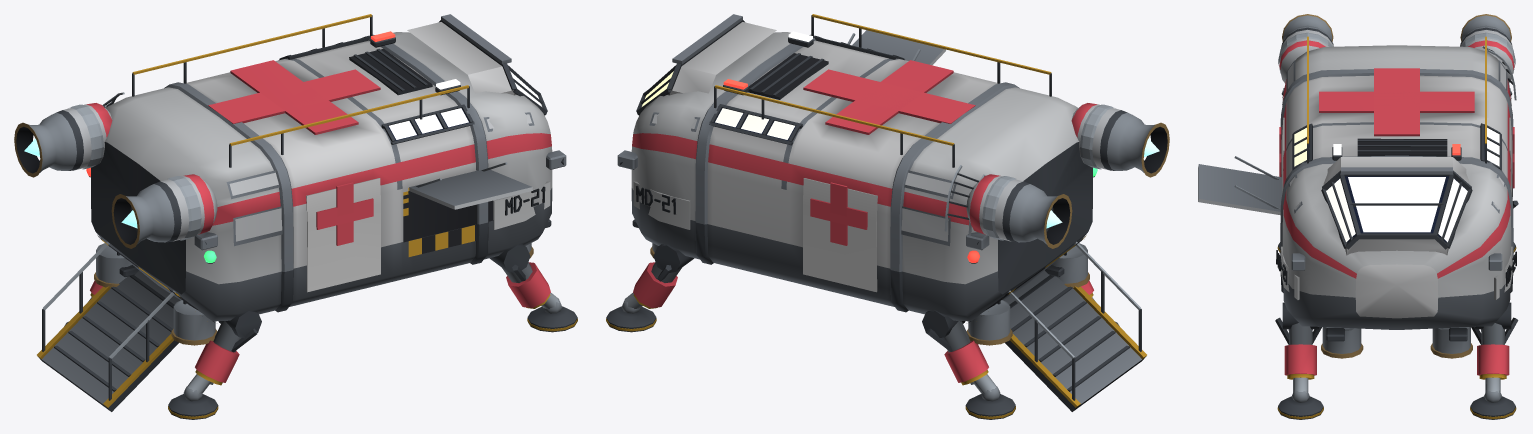
File: ship_medical.glb
The picture shows the model from 3 angles, left to right: view 1: azimuth 30°, elevation 25°; view 2: azimuth 150°, elevation 25°; view 3: azimuth 270°, elevation 25°; orthographic projection. The views are drawn at different scales.
Visible parts, largest first — view 1: Hull, Ramp, Leg_RR, Leg_FR, Door_Stretcher, Lights; view 2: Hull, Ramp, Leg_RL, Leg_FL, Lights, Door_Stretcher; view 3: Hull, Lights, Door_Stretcher, Leg_FR, Leg_FL.
Boxes of the visible parts, x1,y1,x2,y2 form: Hull: (14,14,566,345); Ramp: (37,241,186,411); Leg_RR: (168,310,261,419); Leg_FR: (489,244,577,332); Door_Stretcher: (409,162,532,209); Lights: (86,31,541,262); Hull: (617,14,1169,345); Ramp: (997,241,1146,411); Leg_RL: (922,310,1015,419); Leg_FL: (606,244,694,332); Lights: (642,31,1097,262); Door_Stretcher: (847,30,945,65); Hull: (1276,14,1516,358); Lights: (1294,127,1499,242); Door_Stretcher: (1198,156,1282,215); Leg_FR: (1275,302,1323,419); Leg_FL: (1470,302,1518,419).
Bounding box in the file's own units: 10.53 × 5.58 × 7.
